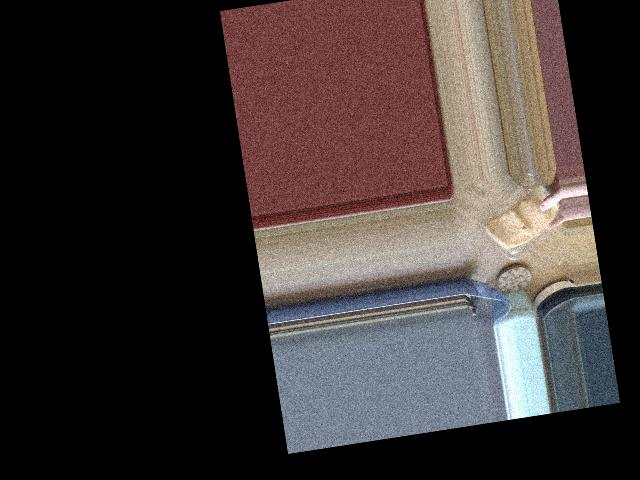cheese: (461, 170, 564, 273)
